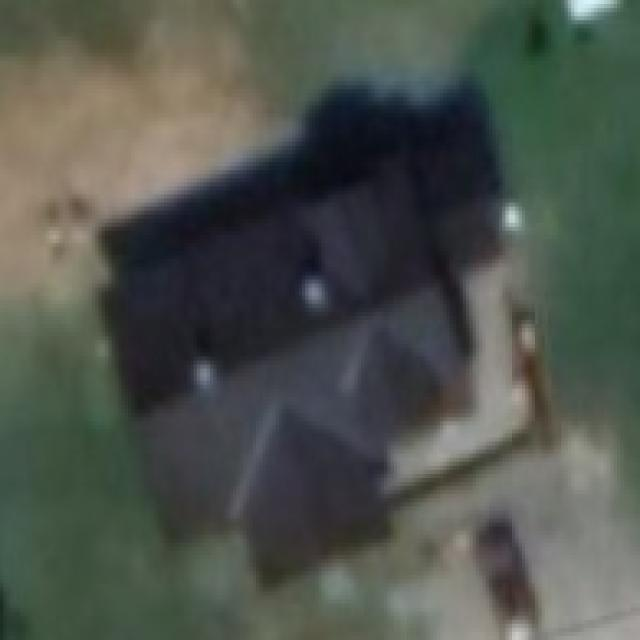Batiment: (103, 79, 530, 576)
